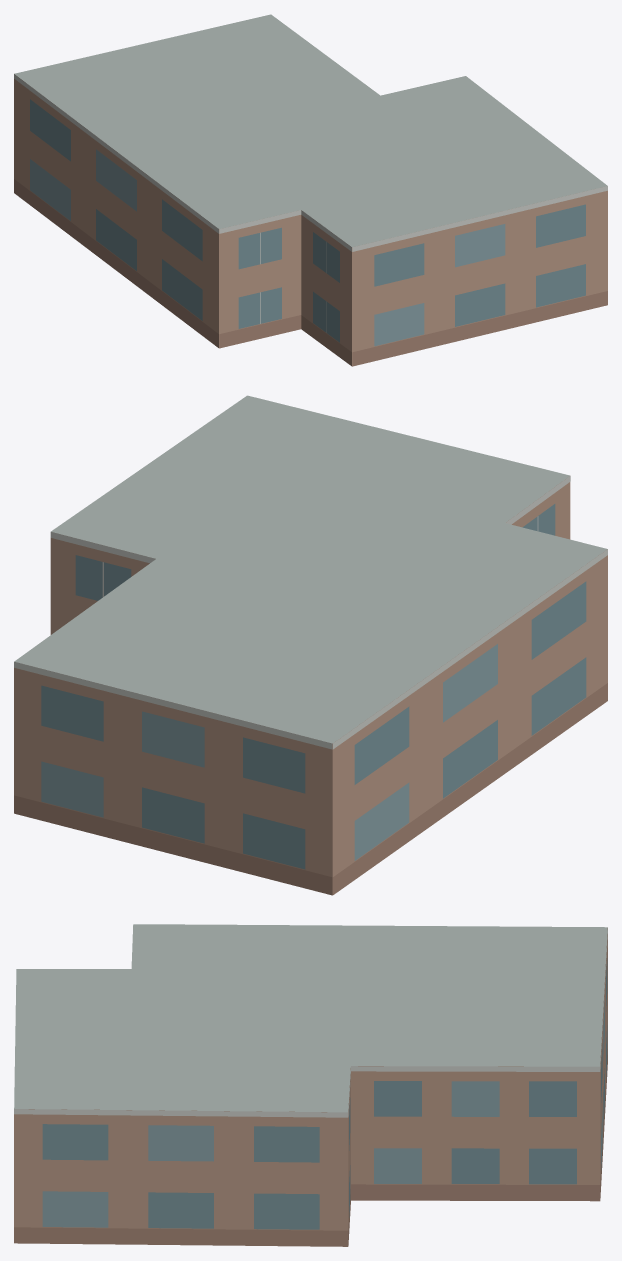
Rendered from survey-upis-32869128.glb.
The picture shows the model from 3 angles, top to bottom: view 1: azimuth 30°, elevation 25°; view 2: azimuth 150°, elevation 25°; view 3: azimuth 270°, elevation 25°; orthographic projection. The views are drawn at different scales.
Parts seen in each view (by area): view 1: survey-upis-32869128.tmp; view 2: survey-upis-32869128.tmp; view 3: survey-upis-32869128.tmp.
Part boxes in pixels (x1,y1,x2,y2): survey-upis-32869128.tmp: [14, 14, 607, 366]; survey-upis-32869128.tmp: [14, 395, 607, 895]; survey-upis-32869128.tmp: [14, 924, 607, 1246].
Size of the model in its own units: 18.32 by 6.1 by 24.43.
